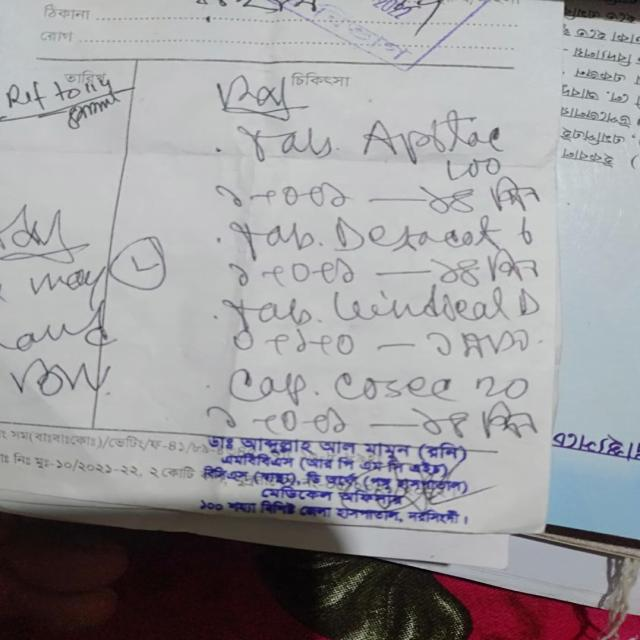Apitac: (353, 108, 513, 163)
Cosec: (328, 366, 460, 407)
Dexacort: (320, 210, 542, 254)
